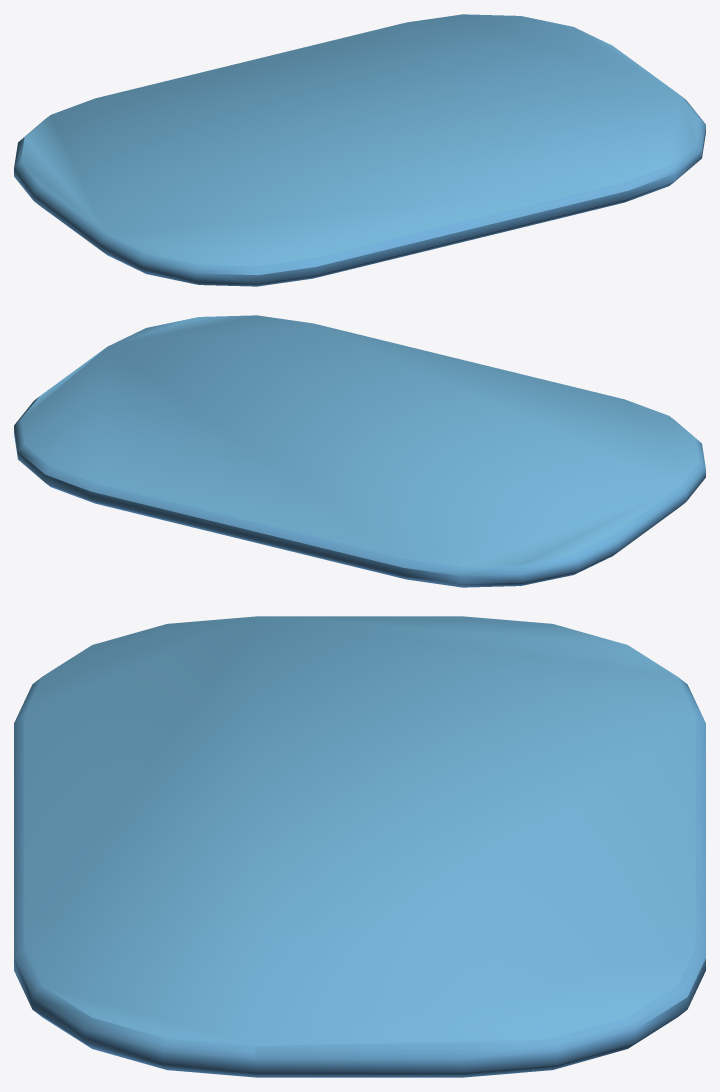
The model's file is fur-rug-oval-b.glb.
3 views of the same model, one above another, from view 1: azimuth 30°, elevation 25°; view 2: azimuth 150°, elevation 25°; view 3: azimuth 270°, elevation 25° (orthographic). The views are drawn at different scales.
Parts seen in each view (by area): view 1: rug_oval_B; view 2: rug_oval_B; view 3: rug_oval_B.
Boxes of the visible parts, x1,y1,x2,y2 form: rug_oval_B: (14,14,705,286); rug_oval_B: (14,315,705,587); rug_oval_B: (14,616,705,1077).
Size of the model in its own units: 3 by 0.1 by 2.
Materials: 1 (1 with a texture image).
